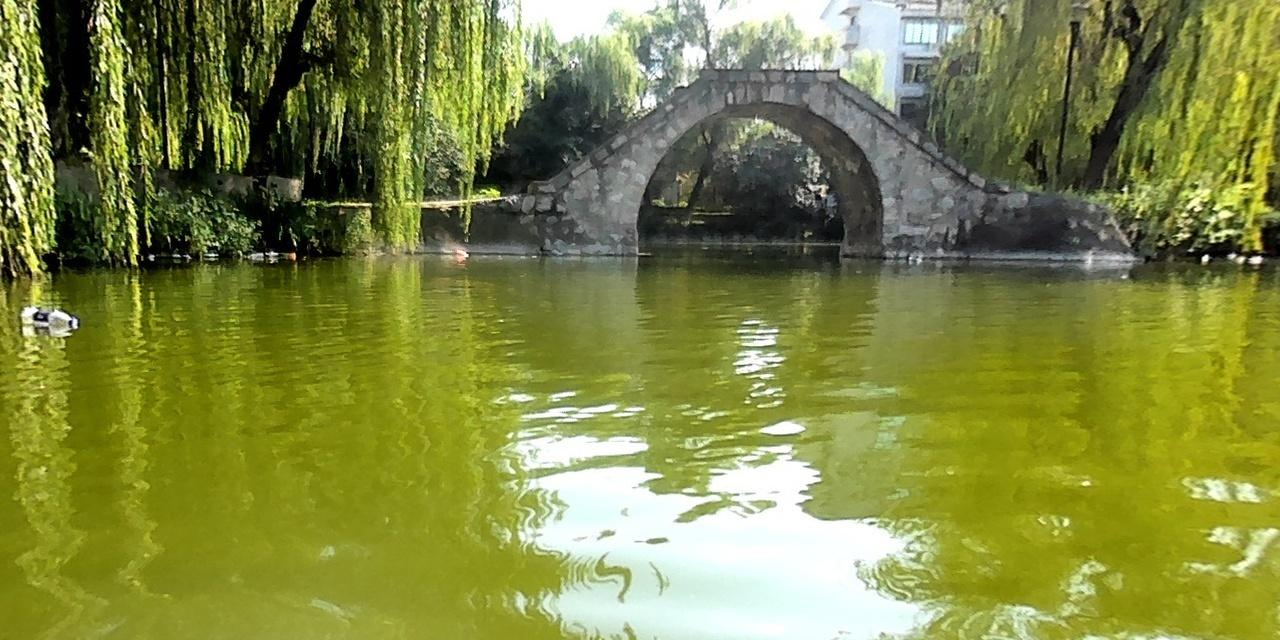bottle: (21, 305, 77, 329)
